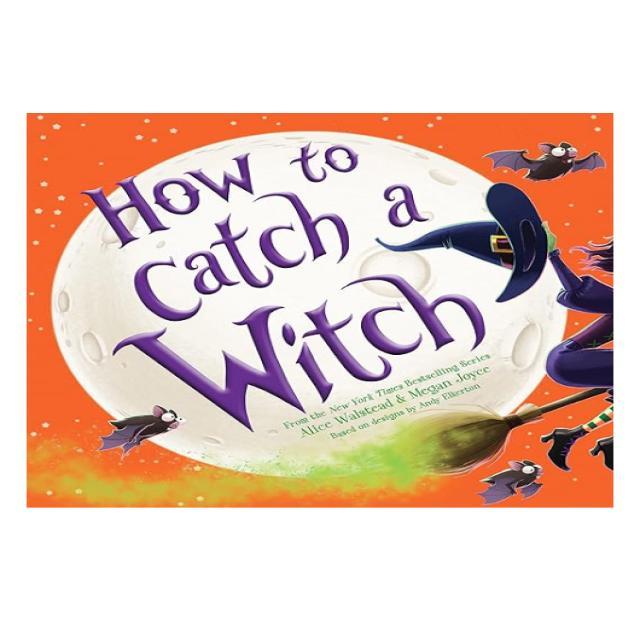titles-or-authors: (54, 124, 512, 439), (292, 362, 497, 441)
